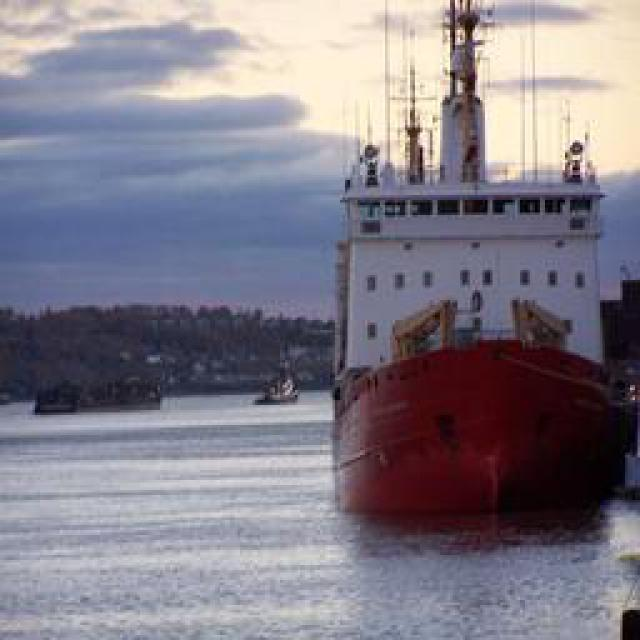Ship: (337, 201, 625, 516)
